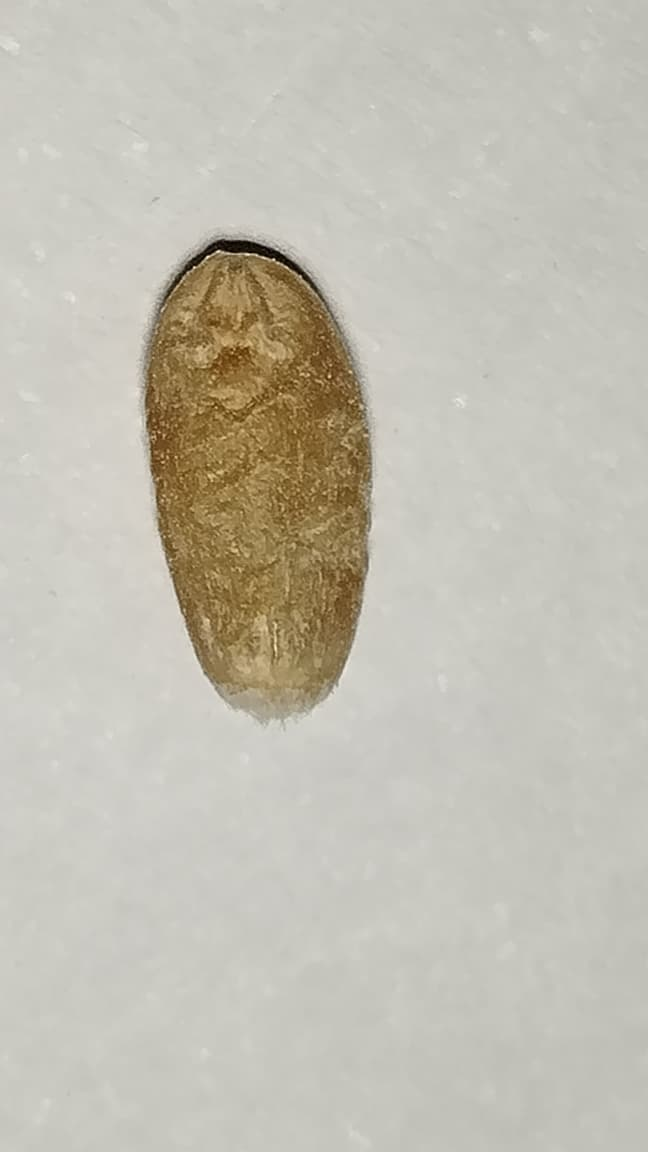damage: (145, 250, 369, 717)
shriveledseed: (167, 246, 370, 682)
